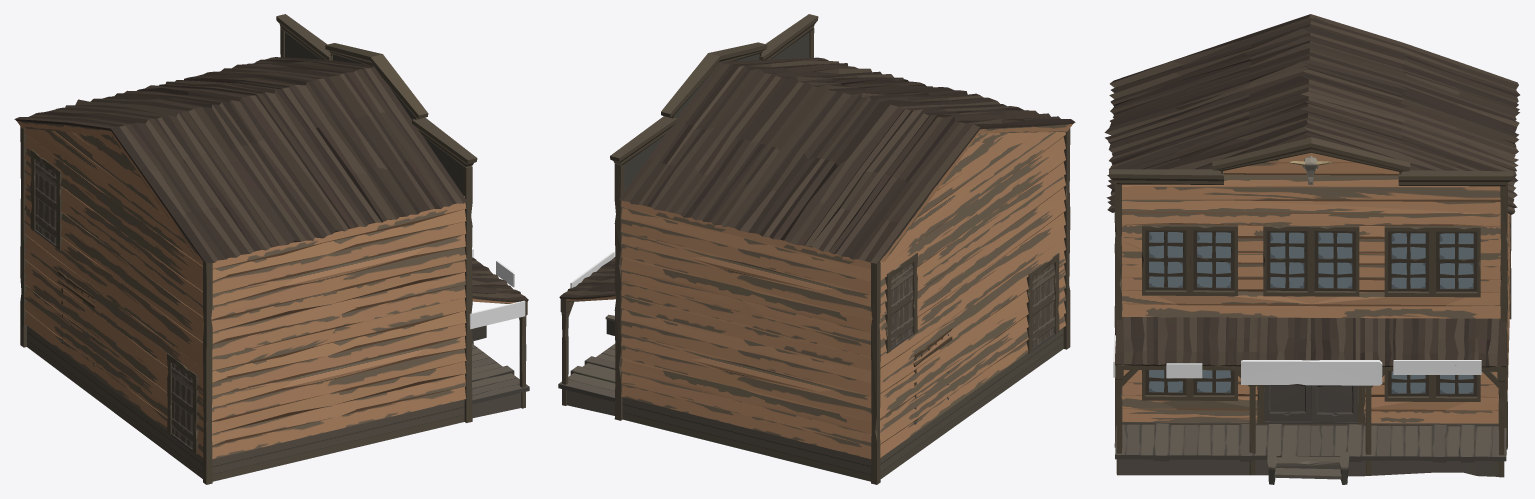
Rendered from Gun_shop.glb.
3 renders of one model, left to right at view 1: azimuth 30°, elevation 25°; view 2: azimuth 150°, elevation 25°; view 3: azimuth 270°, elevation 25°, orthographic. The views are drawn at different scales.
Parts seen in each view (by area): view 1: Gun_shop.005, SM_Bld_Double_Roof_01.006, SM_Bld_Double_Facade_04.005, SM_Bld_Double_Deck_04.005, SM_Bld_Double_DeckCover_02.005, SM_Bld_Large_BackDoor_01.006, SM_Bld_Large_BackDoor_02.006, SM_Bld_Sign_06.005; view 2: Gun_shop.005, SM_Bld_Double_Roof_01.006, SM_Bld_Double_Facade_04.005, SM_Bld_Double_Deck_04.005, SM_Bld_Double_DeckCover_02.005, SM_Bld_Large_BackDoor_02.006, SM_Bld_Large_BackDoor_01.006; view 3: SM_Bld_Double_Roof_01.006, SM_Bld_Double_Front_02.005, SM_Bld_Double_Facade_04.005, SM_Bld_Double_DeckCover_02.005, SM_Bld_Double_Deck_04.005, SM_Bld_Double_Front_01.006, SM_Bld_Double_Front_Window_02.005, Gun_shop.005, SM_Bld_Sign_16.005, SM_Bld_Double_Front_Window_01.006, SM_Bld_DeckSteps_01__6_.004, SM_Bld_Double_FrontDoor_02.003 (+3 smaller).
Boxes of the visible parts, bbox=[...] form: Gun_shop.005: bbox=[20, 27, 472, 484]; SM_Bld_Double_Roof_01.006: bbox=[14, 57, 466, 262]; SM_Bld_Double_Facade_04.005: bbox=[276, 14, 477, 193]; SM_Bld_Double_Deck_04.005: bbox=[472, 339, 529, 417]; SM_Bld_Double_DeckCover_02.005: bbox=[472, 257, 528, 408]; SM_Bld_Large_BackDoor_01.006: bbox=[35, 160, 57, 244]; SM_Bld_Large_BackDoor_02.006: bbox=[171, 363, 193, 448]; SM_Bld_Sign_06.005: bbox=[469, 300, 525, 329]; Gun_shop.005: bbox=[614, 28, 1070, 484]; SM_Bld_Double_Roof_01.006: bbox=[619, 57, 1075, 263]; SM_Bld_Double_Facade_04.005: bbox=[610, 14, 818, 191]; SM_Bld_Double_Deck_04.005: bbox=[558, 343, 615, 415]; SM_Bld_Double_DeckCover_02.005: bbox=[559, 257, 615, 405]; SM_Bld_Large_BackDoor_02.006: bbox=[1031, 263, 1054, 347]; SM_Bld_Large_BackDoor_01.006: bbox=[890, 263, 913, 347]; SM_Bld_Double_Roof_01.006: bbox=[1104, 14, 1519, 214]; SM_Bld_Double_Front_02.005: bbox=[1121, 213, 1500, 318]; SM_Bld_Double_Facade_04.005: bbox=[1109, 137, 1513, 214]; SM_Bld_Double_DeckCover_02.005: bbox=[1115, 317, 1506, 477]; SM_Bld_Double_Deck_04.005: bbox=[1115, 423, 1506, 476]; SM_Bld_Double_Front_01.006: bbox=[1122, 370, 1498, 424]; SM_Bld_Double_Front_Window_02.005: bbox=[1149, 232, 1473, 288]; Gun_shop.005: bbox=[1114, 182, 1511, 449]; SM_Bld_Sign_16.005: bbox=[1241, 360, 1382, 385]; SM_Bld_Double_Front_Window_01.006: bbox=[1149, 370, 1473, 393]; SM_Bld_DeckSteps_01__6_.004: bbox=[1267, 451, 1349, 484]; SM_Bld_Double_FrontDoor_02.003: bbox=[1264, 384, 1311, 421].
Bounding box in the file's own units: 11.09 × 8.8 × 10.79.
Materials: 19 (5 with a texture image).
